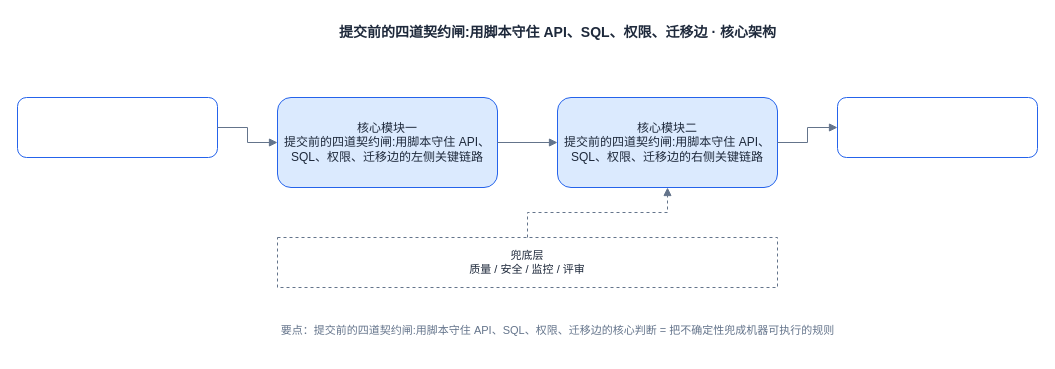
The diagram is 1055 pixels wide and 369 high, and some of its shapes have lost their labels. The shapes that lost their labels are listed below. From the top down, each one's centre as x and y in pixels, then its label:
the point at 117,127: 输入层 需求 / 数据 / 上游调用
the point at 937,127: 输出 / 结果 产物 / 上线 / 反馈
